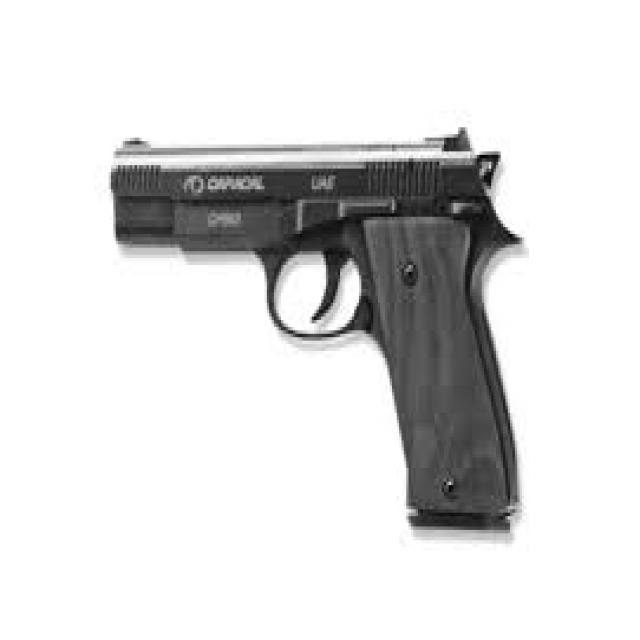Gun: (97, 100, 558, 542)
